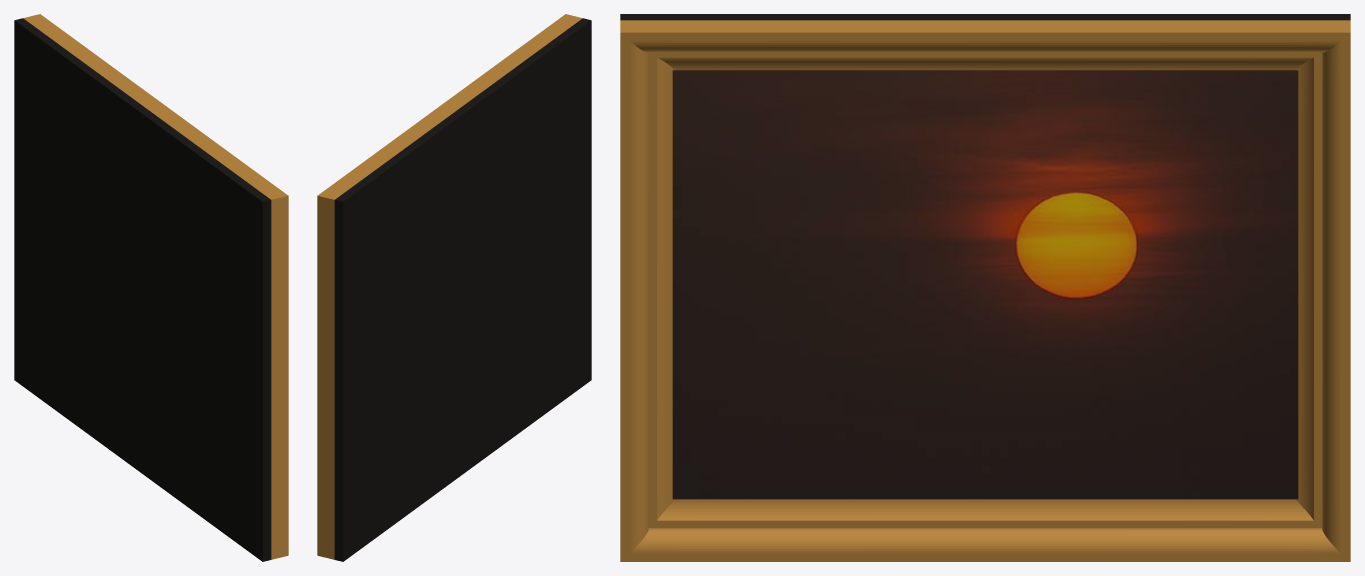
3 views of the same model, side by side, from view 1: azimuth 30°, elevation 25°; view 2: azimuth 150°, elevation 25°; view 3: azimuth 270°, elevation 25° (orthographic). The views are drawn at different scales.
Parts seen in each view (by area): view 1: frame.001_3, back panel.001_2; view 2: frame.001_3, back panel.001_2; view 3: frame.001_3, back panel.001_2.
Part boxes in pixels (x1,y1,x2,y2): frame.001_3: (14, 18, 271, 561); back panel.001_2: (23, 14, 288, 559); frame.001_3: (334, 18, 591, 561); back panel.001_2: (317, 14, 582, 559); frame.001_3: (620, 14, 1350, 499); back panel.001_2: (620, 20, 1350, 561).
Bounding box in the file's own units: 0.75 × 10 × 12.5.
Materials: 3 (1 with a texture image).
